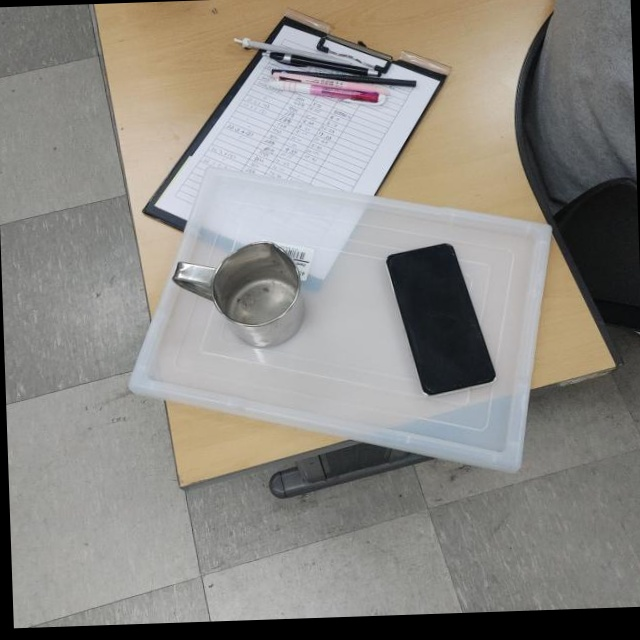cup: (169, 238, 308, 351)
phone: (383, 240, 497, 400)
